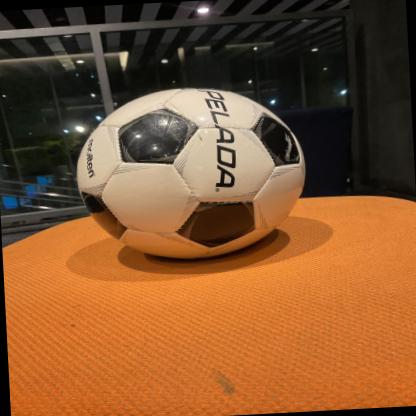ball: (77, 80, 305, 266)
